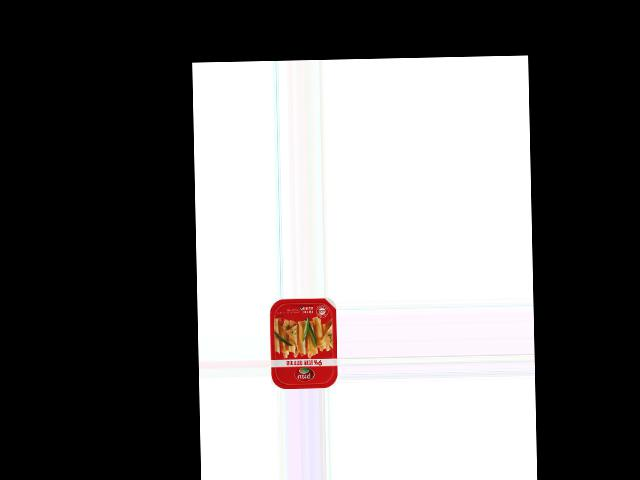cheese: (268, 297, 337, 389)
